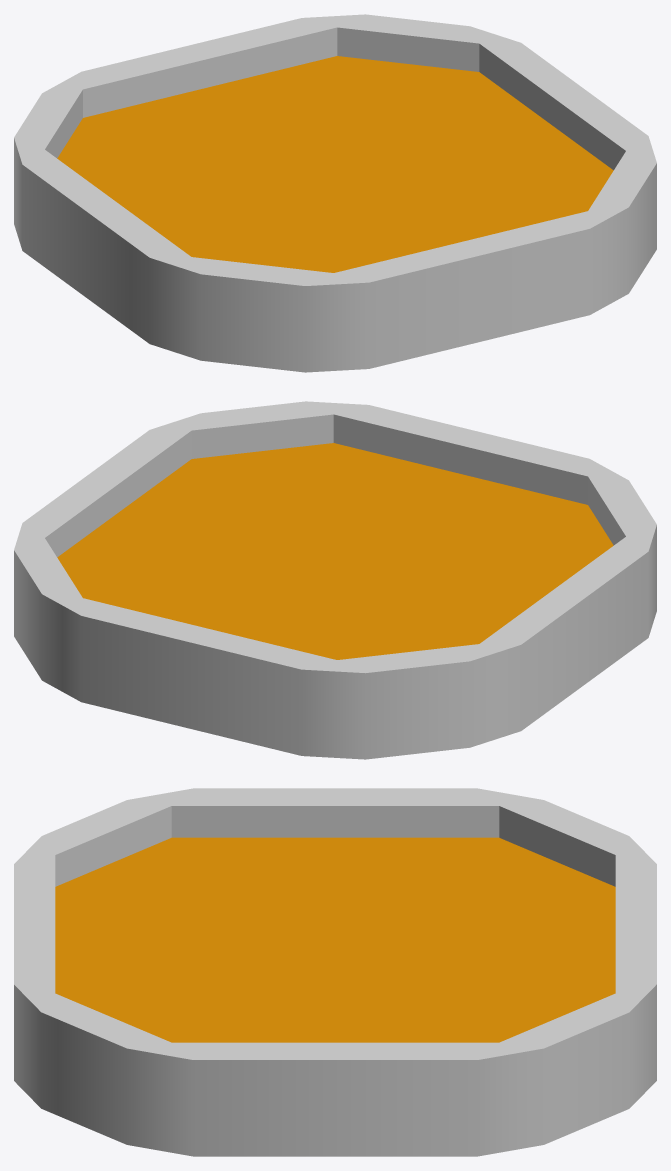
Rendered from RoundMonitor.fbx.
3 renders of one model, top to bottom at view 1: azimuth 30°, elevation 25°; view 2: azimuth 150°, elevation 25°; view 3: azimuth 270°, elevation 25°, orthographic. The views are drawn at different scales.
Parts seen in each view (by area): view 1: RoundScreen; view 2: RoundScreen; view 3: RoundScreen.
Boxes of the visible parts, x1,y1,x2,y2 form: RoundScreen: (14,14,656,372); RoundScreen: (14,401,656,759); RoundScreen: (14,788,656,1156).
Size of the model in its own units: 0.5606 by 0.0928 by 0.5606.
